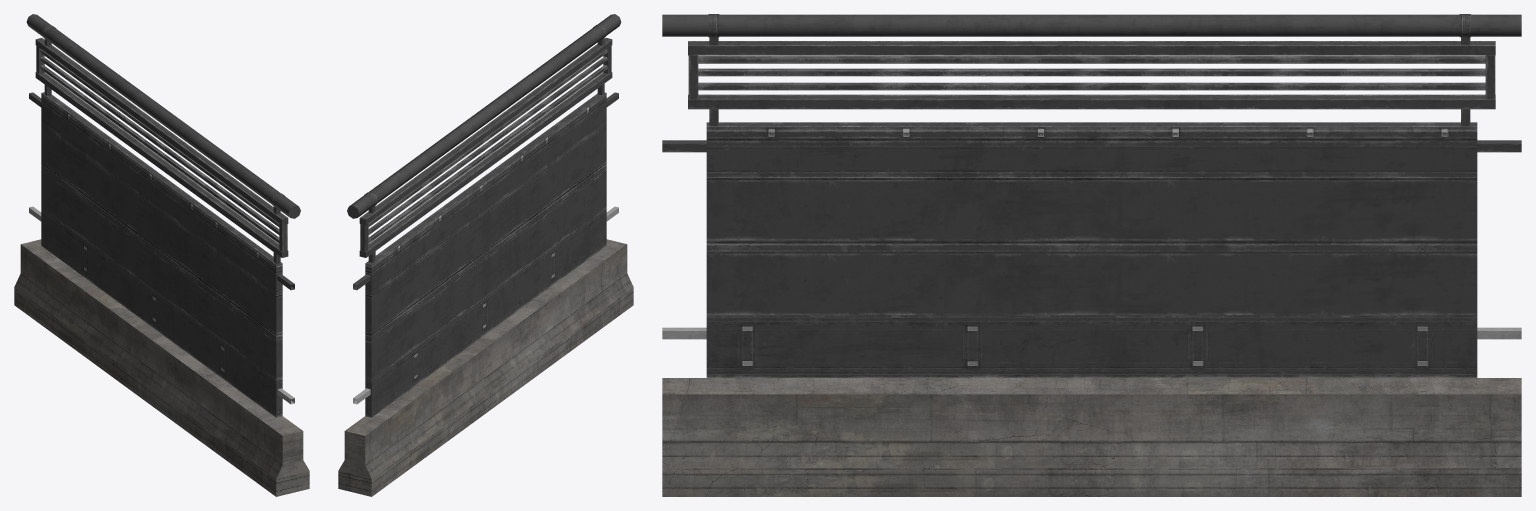
Rendered from CP_Fence_A_4m_01.fbx.
3 renders of one model, left to right at view 1: azimuth 30°, elevation 25°; view 2: azimuth 150°, elevation 25°; view 3: azimuth 270°, elevation 25°, orthographic. The views are drawn at different scales.
Visible parts, largest first — view 1: CP_Fence_A_4m_01; view 2: CP_Fence_A_4m_01; view 3: CP_Fence_A_4m_01.
Part boxes in pixels (bbox=[...]): CP_Fence_A_4m_01: bbox=[14, 14, 309, 496]; CP_Fence_A_4m_01: bbox=[338, 14, 633, 496]; CP_Fence_A_4m_01: bbox=[662, 14, 1521, 496].
Bounding box in the file's own units: 29.59 × 242 × 400.
